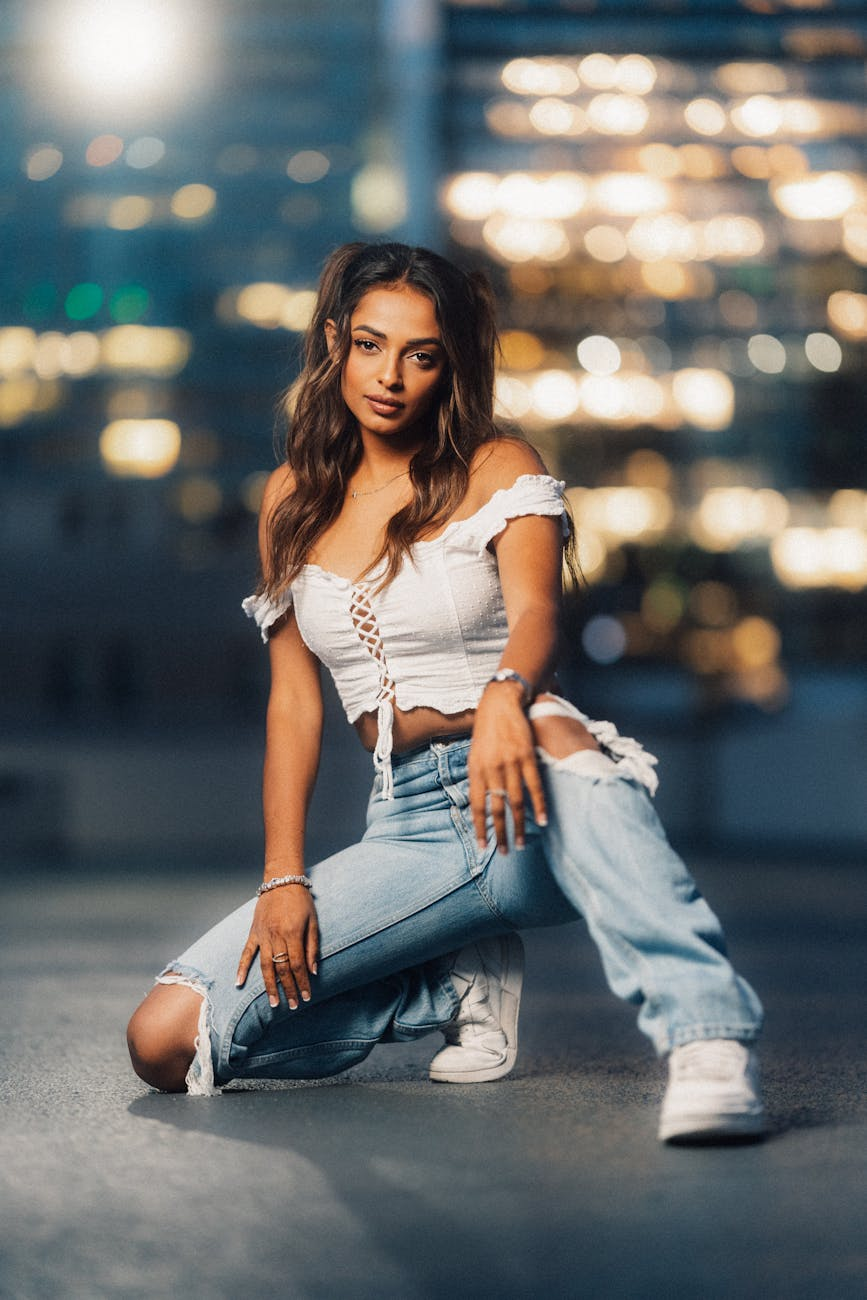crop_top: (270, 471, 559, 719)
ripped_jeans: (136, 725, 772, 1086)
